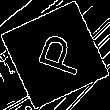P_W: (25, 29, 85, 81)
